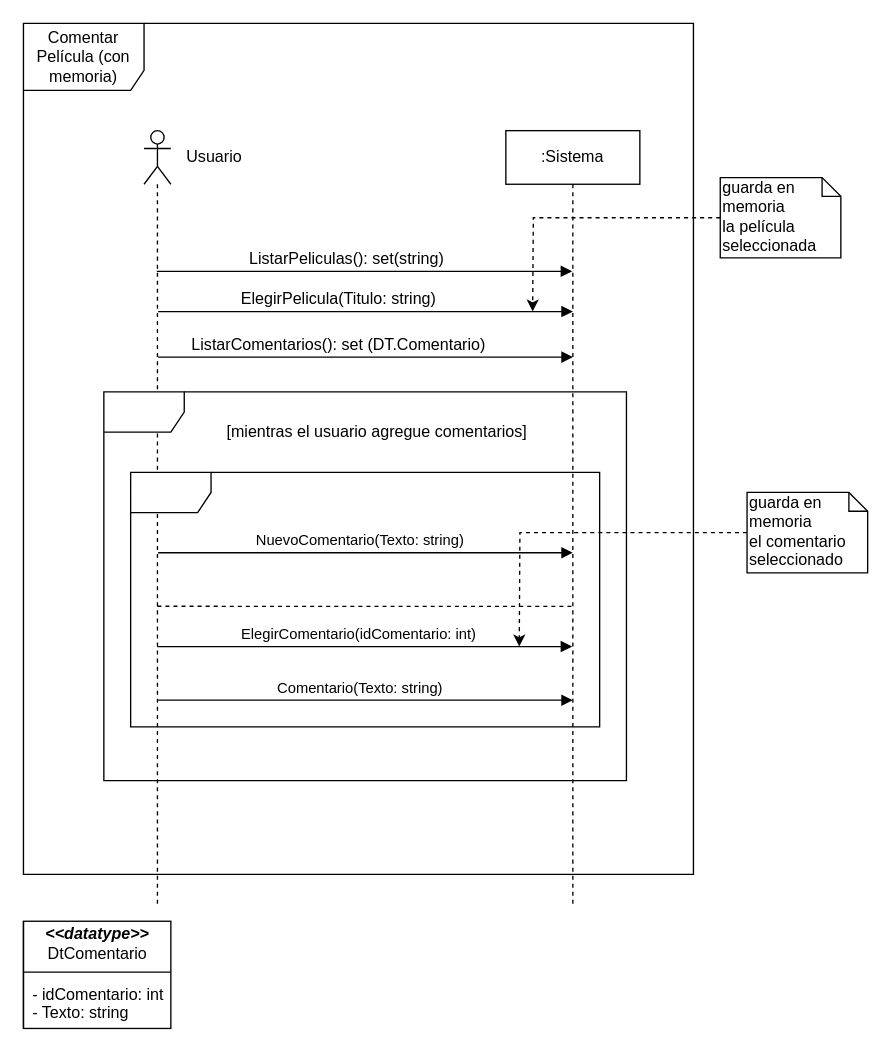
The diagram is 891 pixels wide and 1052 high, and some of its shapes have lost their labels. Here are the shapes that lost their labels. From the top down, the box of each, then its label:
(103, 391, 626, 781): loop
(129, 471, 600, 727): alt
